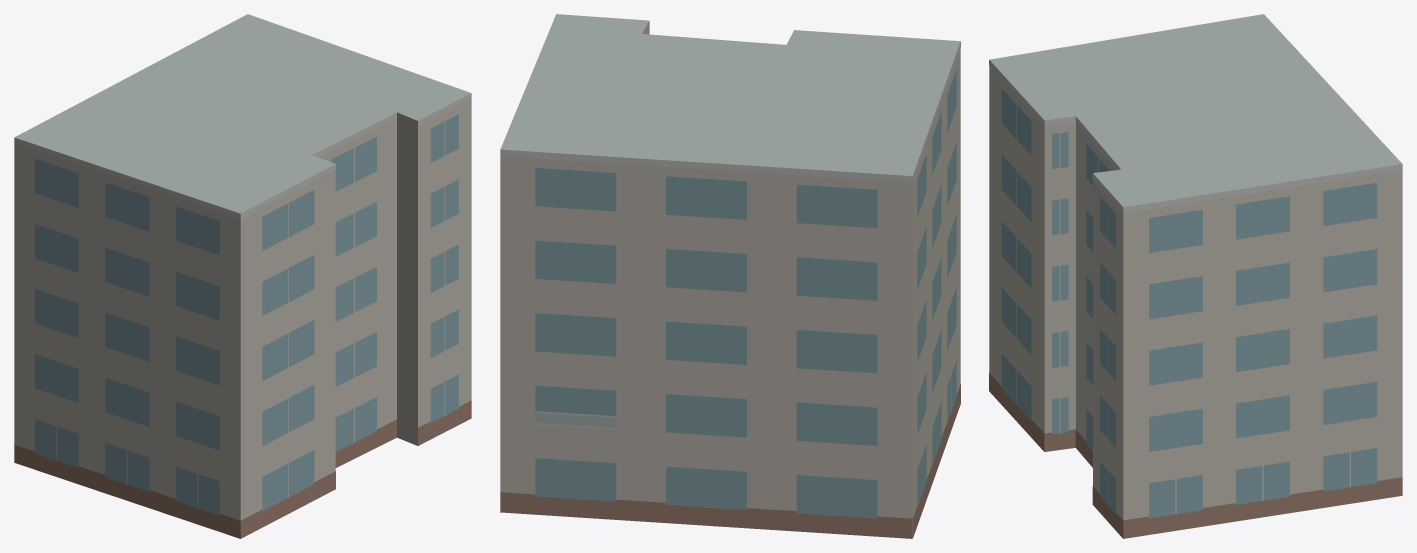
The model's file is survey-upis-32853642.glb.
3 renders of one model, left to right at view 1: azimuth 30°, elevation 25°; view 2: azimuth 150°, elevation 25°; view 3: azimuth 270°, elevation 25°, orthographic. The views are drawn at different scales.
Visible parts, largest first — view 1: survey-upis-32853642.tmp; view 2: survey-upis-32853642.tmp; view 3: survey-upis-32853642.tmp.
Boxes of the visible parts, x1,y1,x2,y2 form: survey-upis-32853642.tmp: (14,14,471,538); survey-upis-32853642.tmp: (500,14,960,538); survey-upis-32853642.tmp: (989,14,1402,538).
Bounding box in the file's own units: 16.89 × 13.5 × 15.27.
